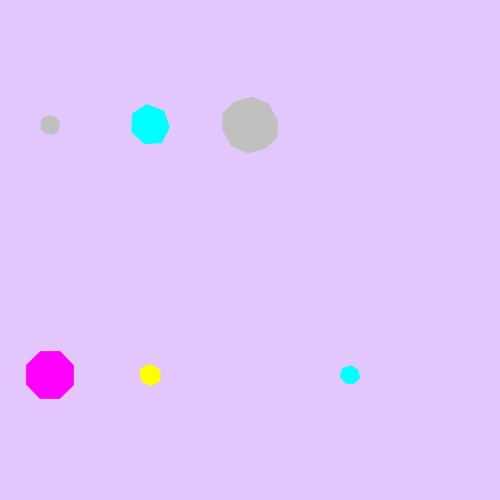decagon: (217, 95, 283, 156), (35, 111, 65, 139)
heptagon: (126, 102, 174, 148), (336, 361, 365, 389)
hexagon: (134, 361, 166, 389)
octagon: (21, 346, 80, 405)
